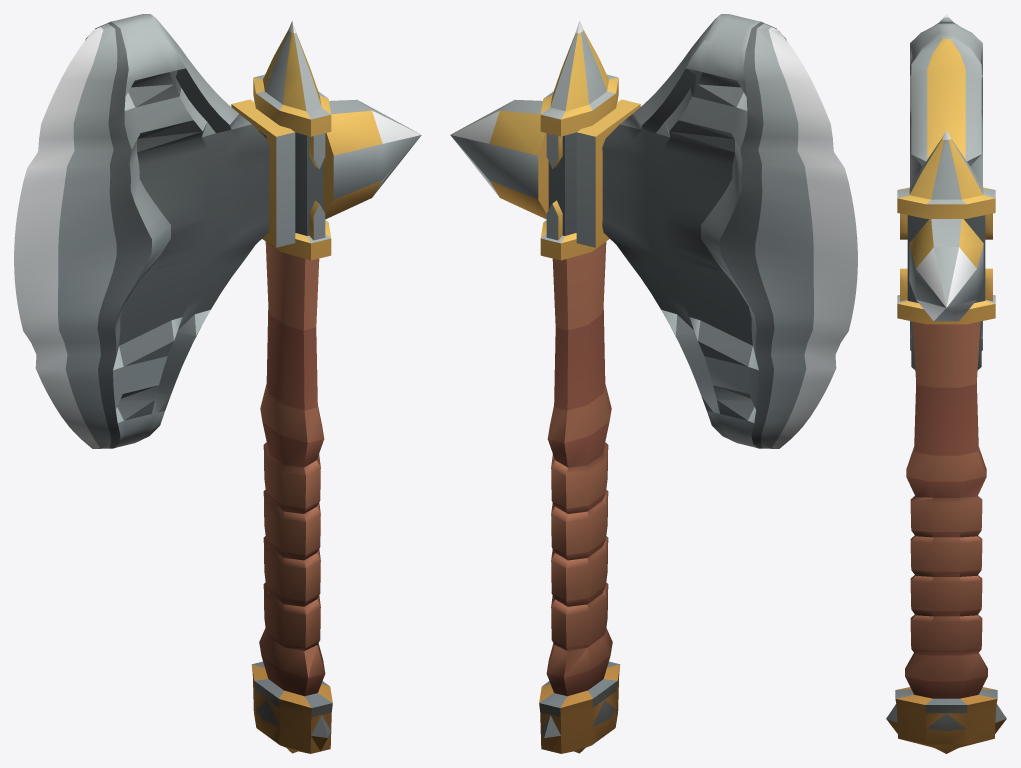
Rendered from axe_bearded.glb.
3 views of the same model, side by side, from view 1: azimuth 30°, elevation 25°; view 2: azimuth 150°, elevation 25°; view 3: azimuth 270°, elevation 25° (orthographic). The views are drawn at different scales.
Visible parts, largest first — view 1: Item; view 2: Item; view 3: Item.
Boxes of the visible parts, x1,y1,x2,y2 form: Item: (14,14,421,753); Item: (450,14,857,753); Item: (886,14,1006,753).
Bounding box in the file's own units: 0.73 × 1.32 × 0.22.
Materials: 3 (3 with a texture image).
